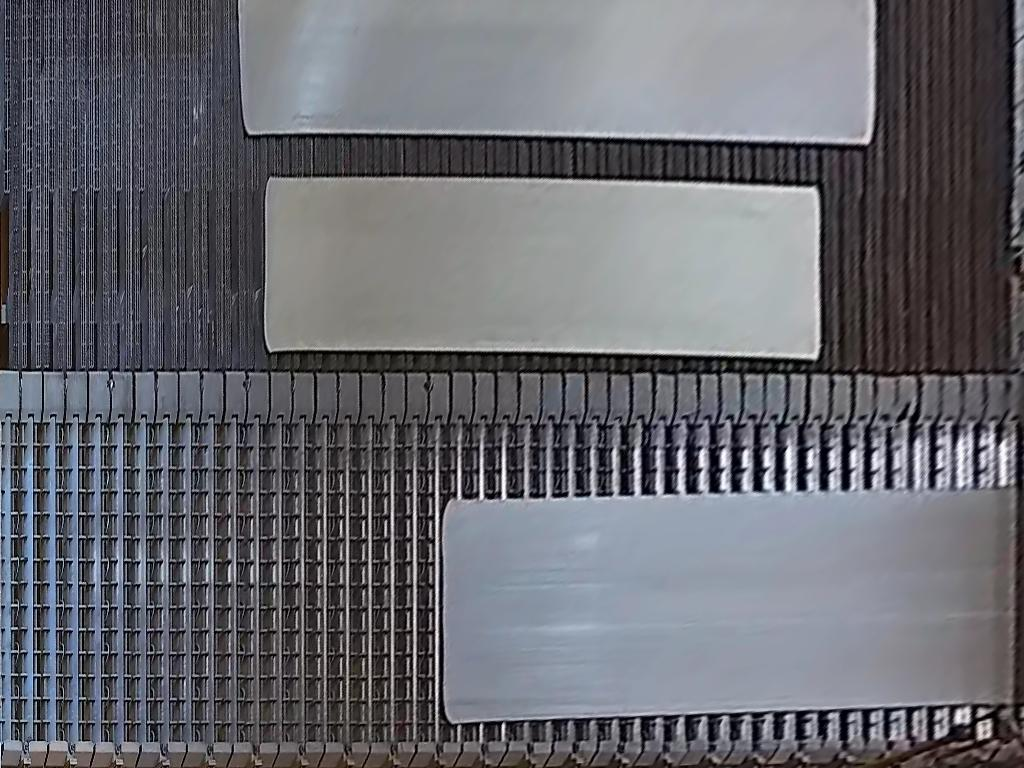steel: (443, 488, 1024, 725), (261, 176, 822, 363), (240, 1, 876, 146)
